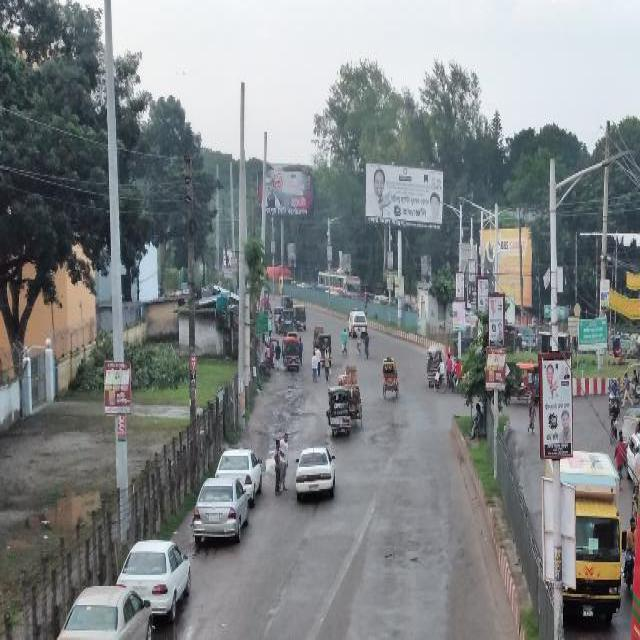ambulance: (347, 306, 367, 334)
auto rickshaw: (328, 384, 350, 434), (514, 360, 540, 401), (620, 362, 640, 399), (281, 336, 299, 368), (426, 347, 440, 385), (317, 332, 331, 365), (292, 302, 306, 328), (273, 306, 281, 331), (281, 295, 291, 304)
bicycle: (608, 412, 618, 442), (432, 371, 446, 390), (355, 334, 361, 354), (445, 368, 451, 387), (341, 338, 347, 353), (364, 340, 368, 354)
bus: (318, 269, 360, 295)
car: (118, 538, 192, 612), (56, 586, 148, 637), (190, 474, 248, 539), (215, 448, 262, 502), (296, 445, 336, 490), (626, 431, 638, 476)
motorbike: (621, 528, 635, 584), (607, 376, 619, 413), (450, 359, 462, 389)
pickup: (544, 446, 624, 618)
rickshaw: (381, 355, 397, 396), (313, 325, 319, 347)
truck: (266, 264, 292, 284)
van: (505, 322, 535, 350)
